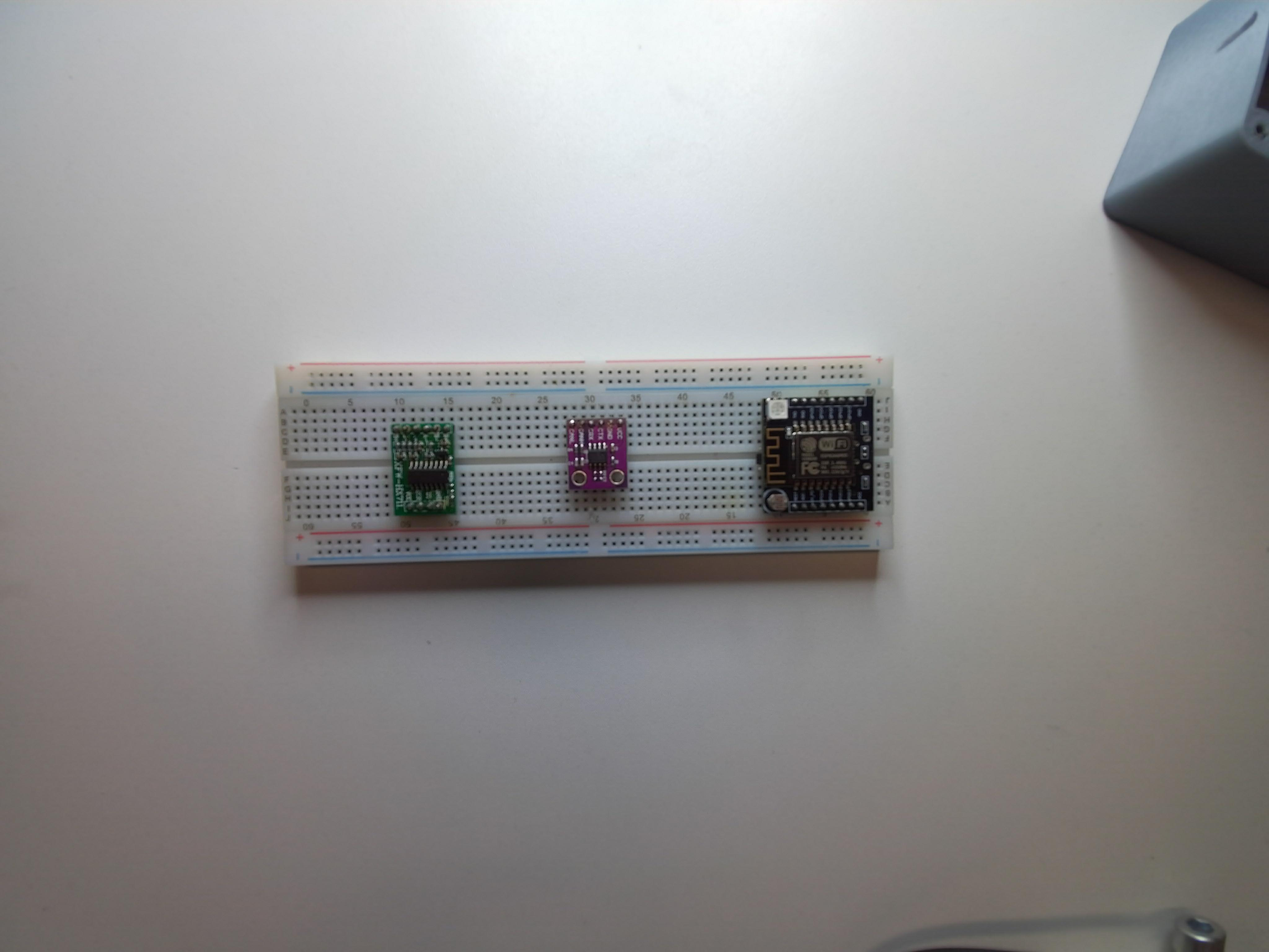base: (272, 355, 896, 582)
esp: (757, 389, 877, 517)
green-board: (389, 420, 457, 518)
purple-board: (564, 415, 630, 503)
